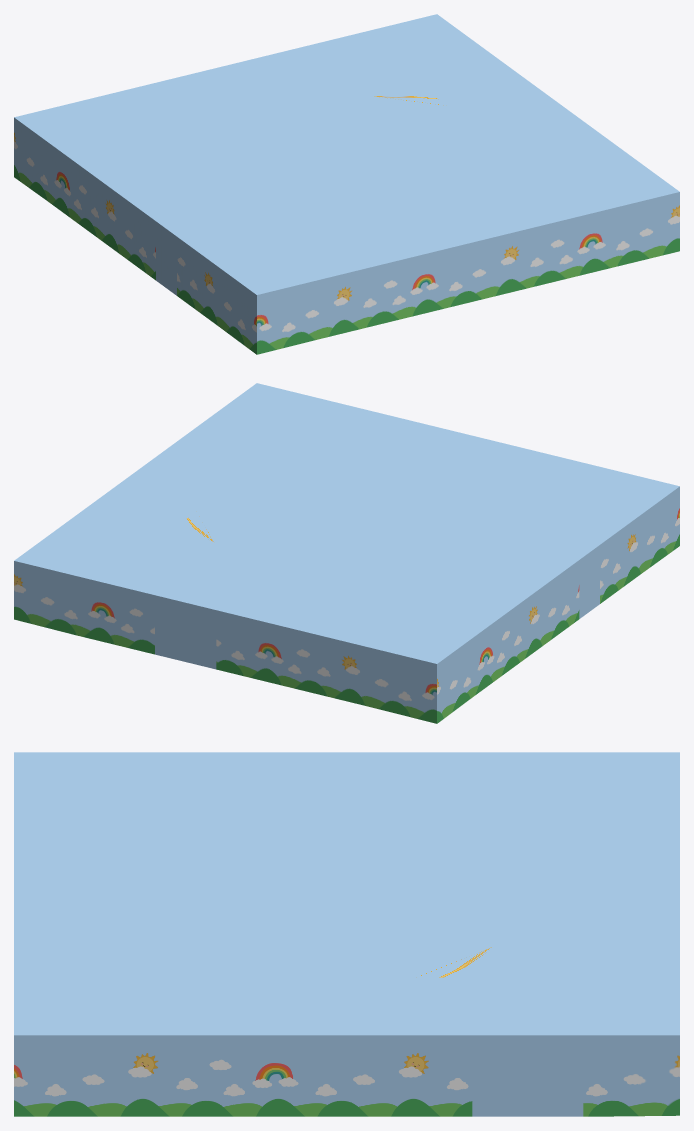
Rendered from Level3.dae.
The picture shows the model from 3 angles, top to bottom: view 1: azimuth 30°, elevation 25°; view 2: azimuth 150°, elevation 25°; view 3: azimuth 270°, elevation 25°; orthographic projection. The views are drawn at different scales.
Parts seen in each view (by area): view 1: Cube; view 2: Cube; view 3: Cube.
Part boxes in pixels (x1,y1,x2,y2): Cube: (14, 14, 679, 354); Cube: (14, 383, 679, 723); Cube: (14, 752, 679, 1116).
Bounding box in the file's own units: 1 × 0.9948 × 0.1498.
